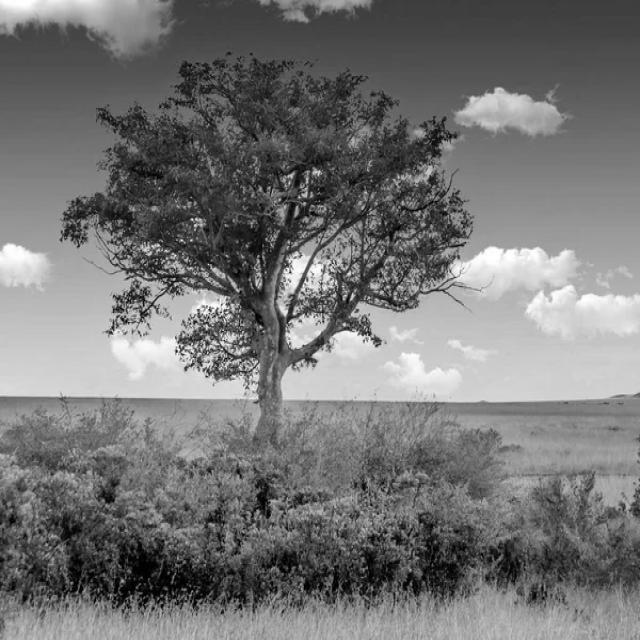Tree: (62, 55, 473, 450)
